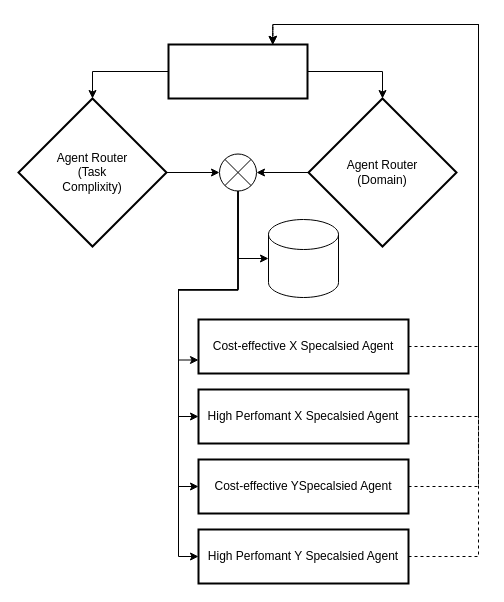
The diagram is 504 pixels wide and 602 high, and some of its shapes have lost their labels. The shapes that lost their labels are listed below. From the top down, each one's box as (x1, y1, x2, y2) in pixels, then its label:
(167, 43, 308, 99): User Query
(268, 218, 338, 298): Agent Leaderbord
